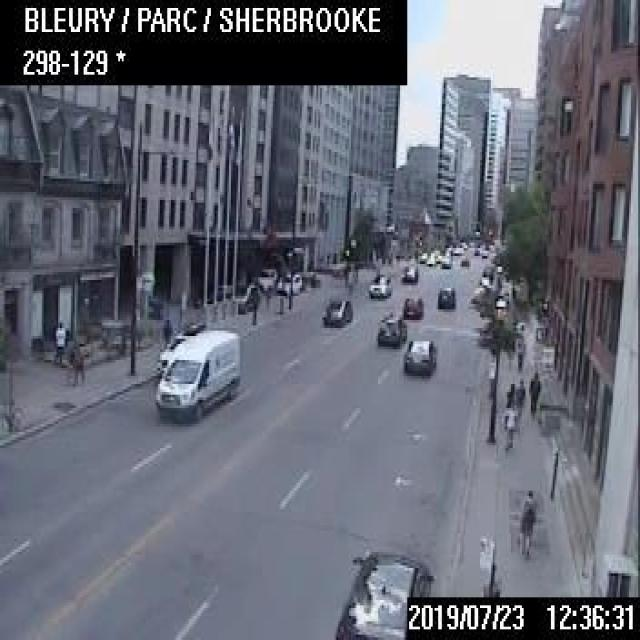pedestrian: (518, 488, 535, 549), (502, 401, 518, 450), (527, 369, 539, 418), (246, 278, 258, 326), (52, 320, 64, 363), (68, 341, 79, 384), (77, 339, 87, 382), (514, 376, 524, 416), (514, 334, 524, 367), (504, 380, 513, 404), (160, 315, 169, 336)
vehicle: (331, 550, 434, 638), (153, 326, 240, 421), (154, 319, 205, 375), (402, 338, 435, 374), (320, 291, 351, 325), (375, 315, 406, 345), (365, 272, 391, 299), (254, 265, 276, 289), (434, 283, 454, 309), (275, 272, 300, 292), (402, 294, 422, 316), (398, 264, 416, 280), (439, 255, 450, 266), (459, 255, 468, 264)
